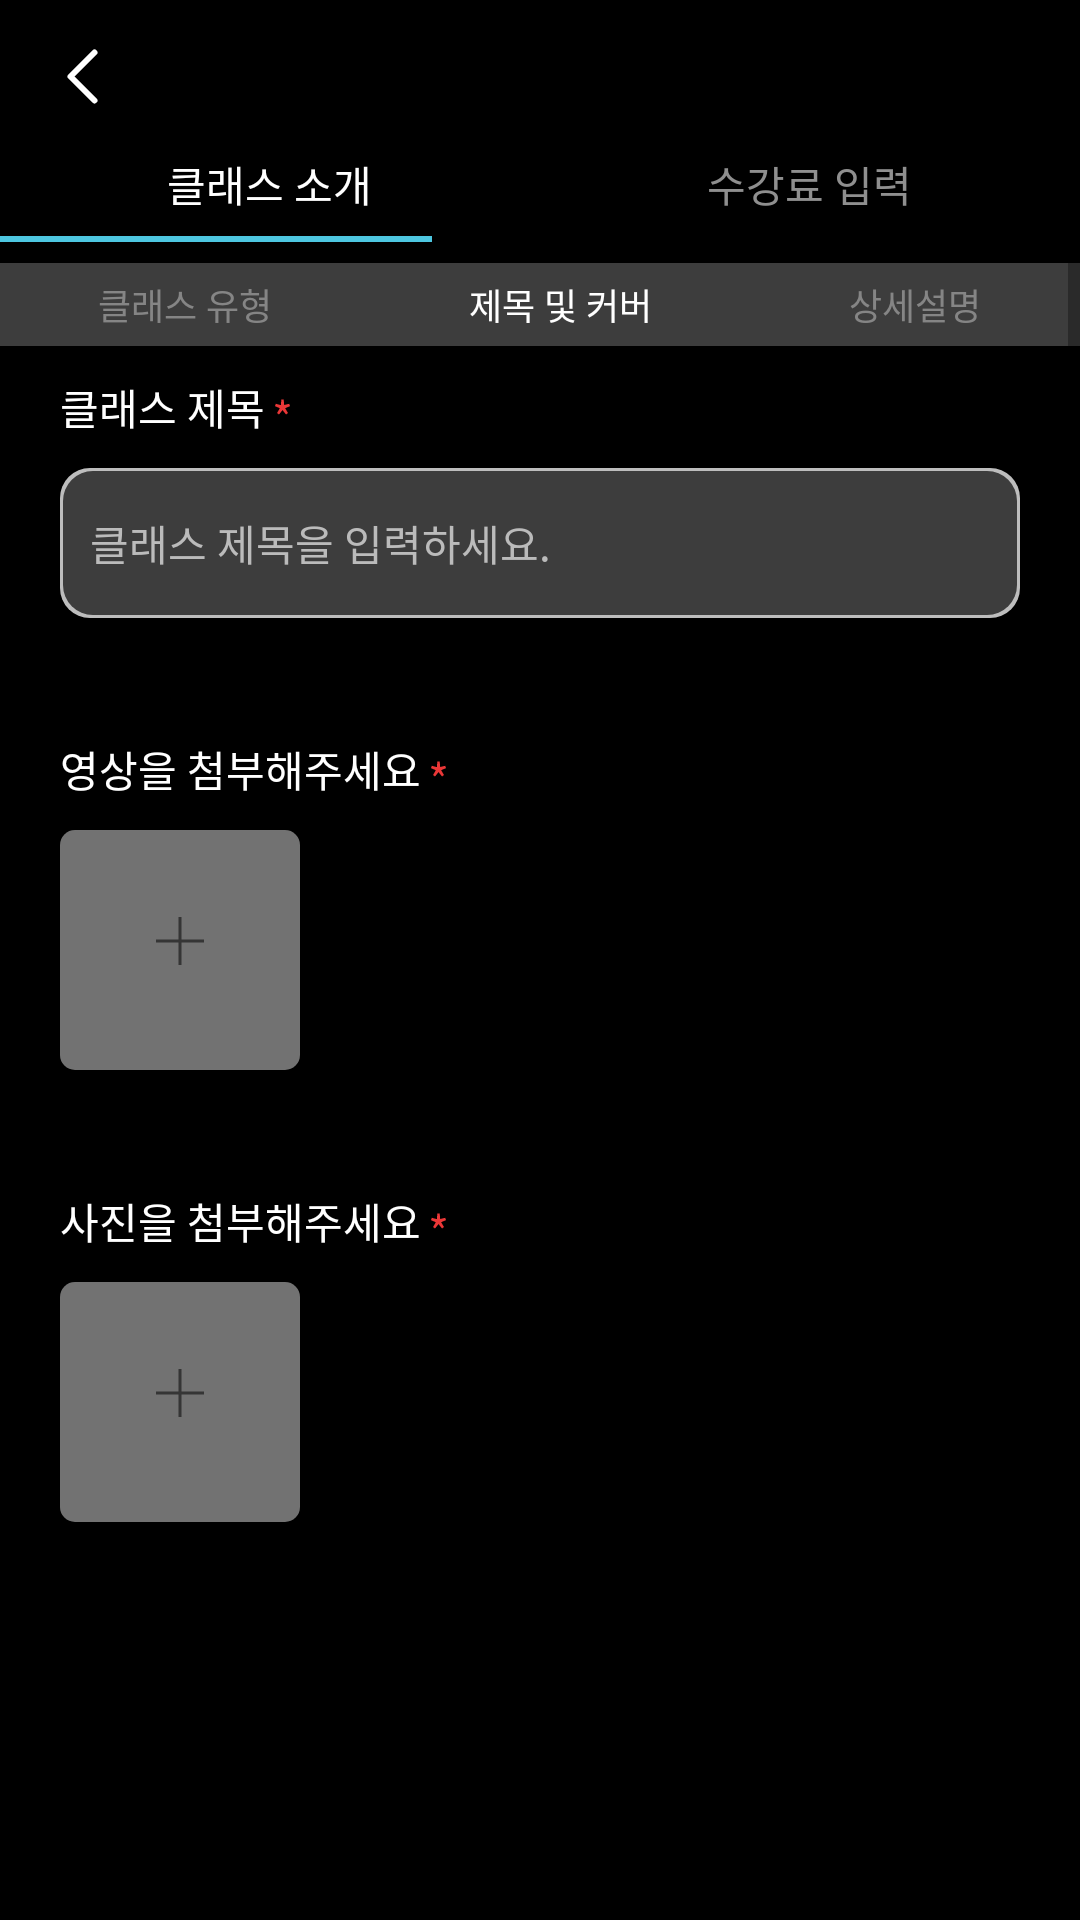

Point at icon controls on the screen. Image size 1080x1920, points as (x,y).
add: (180,950), (180,1402)
back key: (82,76)
